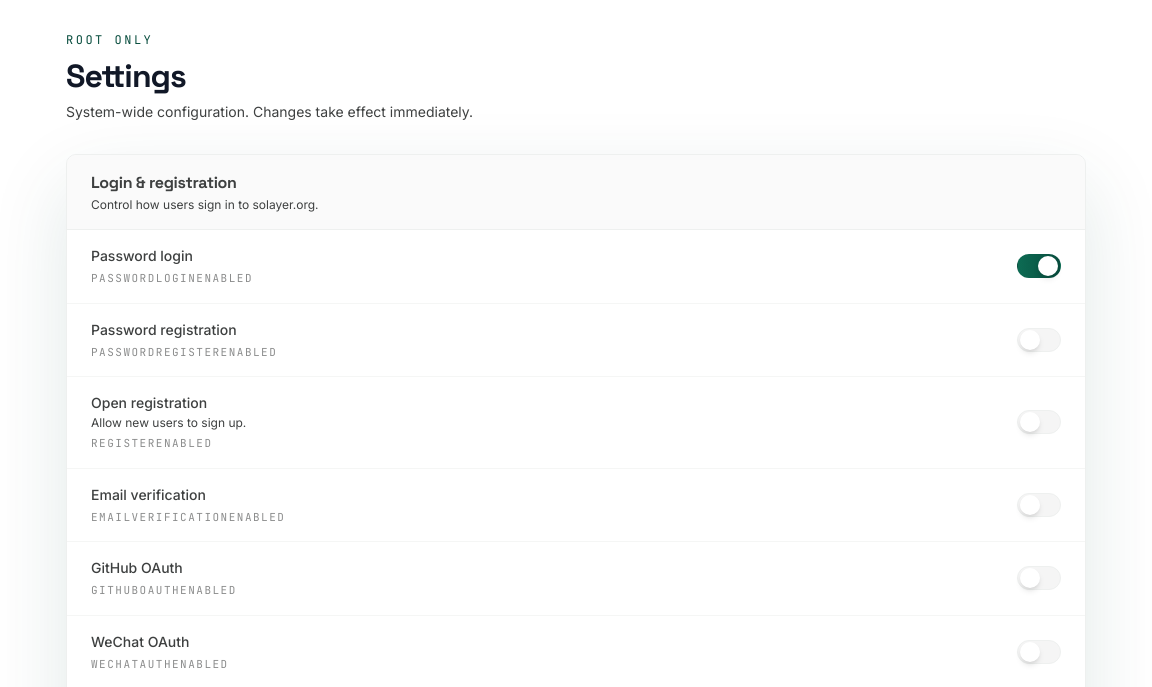
Test: /console/settings option save errors › falls back to the i18n message for non-API errors
Click the switch in the row of "PasswordLoginEnabled".
click(1039, 266)  # box [1017,254,1061,278]
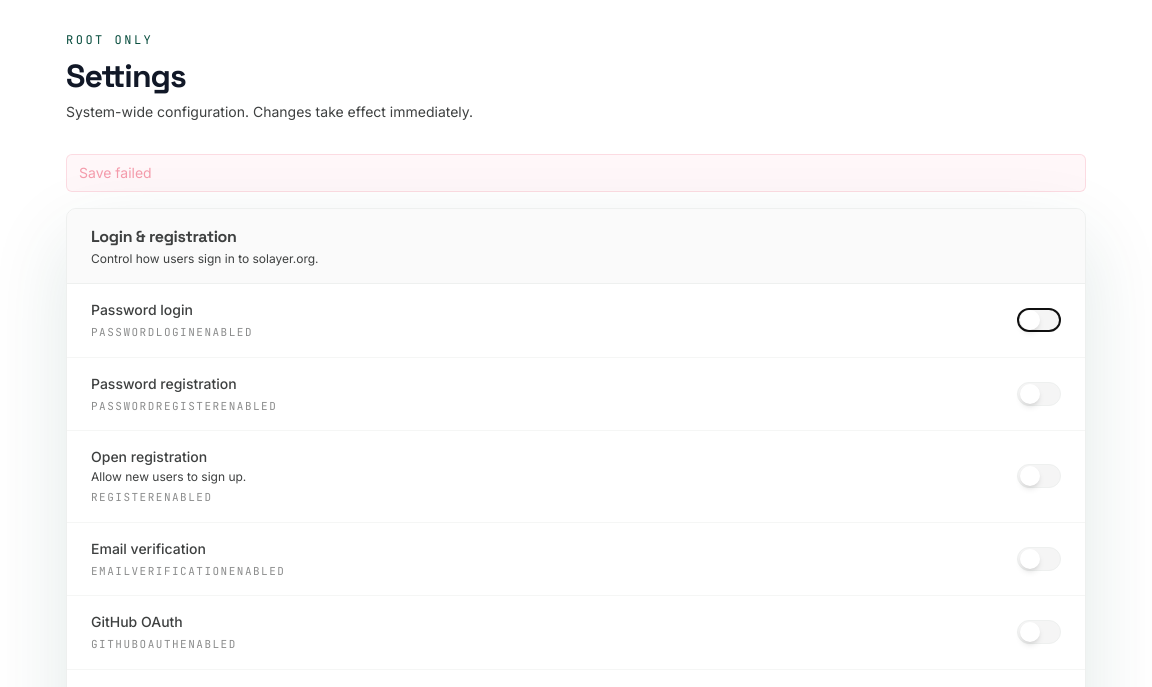
Expected: the text "Save failed" is shown, [66,154,1086,192]
